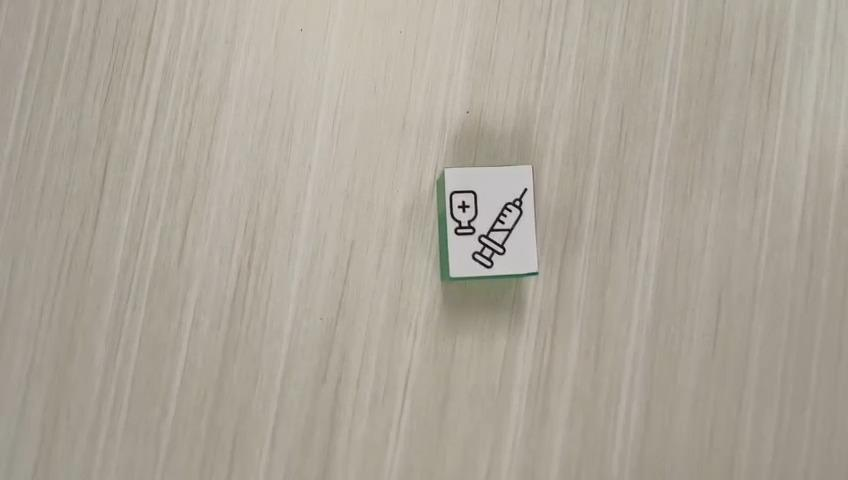antiseptic cream: (435, 163, 539, 282)
